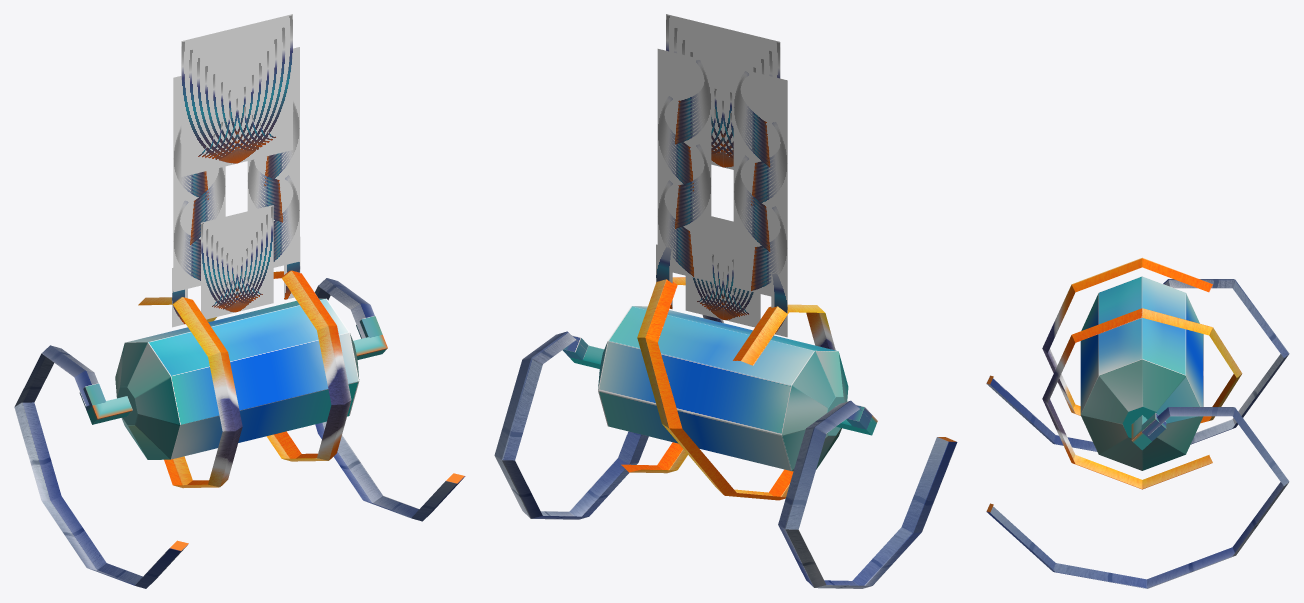
The model's file is maskB.obj.
3 views of the same model, side by side, from view 1: azimuth 30°, elevation 25°; view 2: azimuth 150°, elevation 25°; view 3: azimuth 270°, elevation 25° (orthographic). The views are drawn at different scales.
Visible parts, largest first — view 1: head, spiral_tube, headdress_a_R, headdress_a_L, foot_R, headdress_b_R, headdress_b_L, foot_L, headdress_c_L, headdress_c_R, horn_R, horn_L; view 2: head, headdress_b_L, headdress_b_R, spiral_tube, foot_R, foot_L, headdress_a_L, headdress_a_R, headdress_c_L, headdress_c_R, horn_L, headdress_d_R (+2 smaller); view 3: head, spiral_tube, foot_L, foot_R, horn_L.
Boxes of the visible parts, box(x1,y1,x2,y2) form: head: box(115, 298, 359, 459); spiral_tube: box(138, 270, 351, 488); headdress_a_R: box(181, 27, 237, 176); headdress_a_L: box(237, 14, 292, 163); foot_R: box(14, 345, 188, 588); headdress_b_R: box(173, 76, 225, 292); headdress_b_L: box(247, 47, 299, 267); foot_L: box(315, 278, 465, 521); headdress_c_L: box(237, 205, 273, 311); headdress_c_R: box(201, 214, 237, 319); horn_R: box(79, 383, 132, 424); horn_L: box(353, 316, 387, 359); head: box(598, 306, 848, 471); headdress_b_L: box(657, 49, 711, 281); headdress_b_R: box(733, 67, 787, 296); spiral_tube: box(621, 277, 835, 500); foot_R: box(778, 400, 957, 588); foot_L: box(494, 331, 648, 519); headdress_a_L: box(666, 14, 723, 167); headdress_a_R: box(723, 28, 780, 169); headdress_c_L: box(685, 216, 723, 319); headdress_c_R: box(723, 219, 760, 327); horn_L: box(562, 335, 604, 368); headdress_d_R: box(771, 272, 787, 337); head: box(1080, 276, 1203, 470); spiral_tube: box(1042, 257, 1242, 489); foot_L: box(986, 407, 1289, 588); foot_R: box(986, 279, 1289, 451); horn_L: box(1131, 413, 1166, 450).
Bounding box in the file's own units: 276 × 454 × 257.
